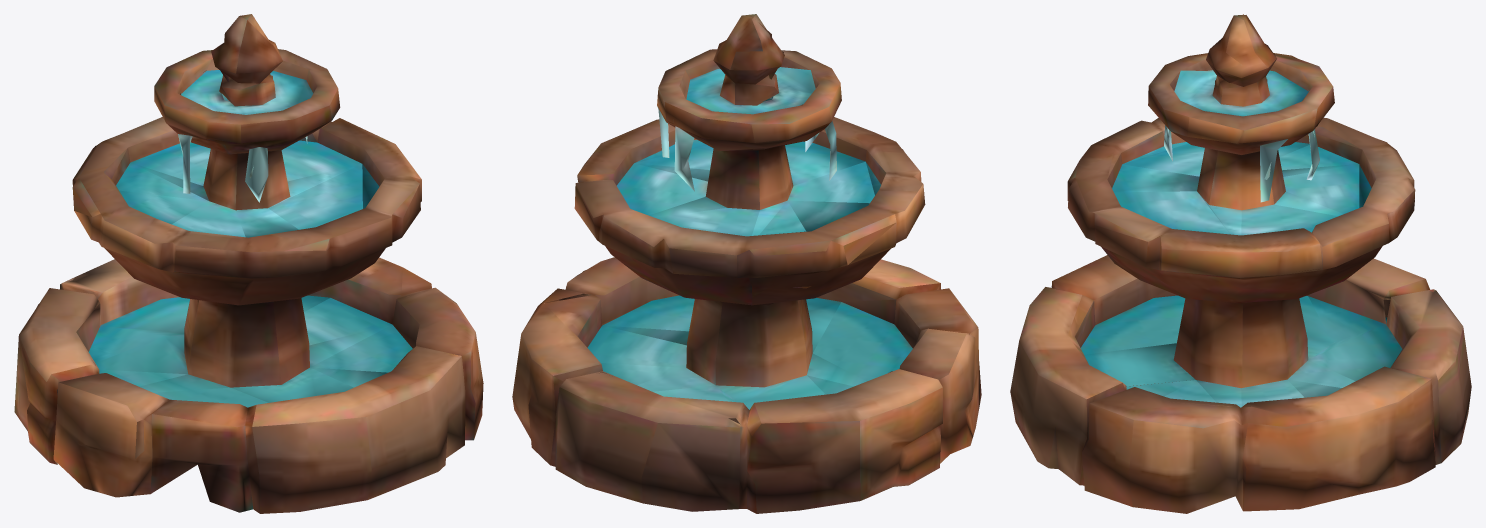
File: lg-village-fountain.glb
3 views of the same model, side by side, from view 1: azimuth 30°, elevation 25°; view 2: azimuth 150°, elevation 25°; view 3: azimuth 270°, elevation 25° (orthographic).
Visible parts, largest first — view 1: geometry_0; view 2: geometry_0; view 3: geometry_0.
Boxes of the visible parts, x1,y1,x2,y2 form: geometry_0: [14, 14, 483, 513]; geometry_0: [512, 14, 981, 513]; geometry_0: [1010, 14, 1471, 513].
Size of the model in its own units: 0.9801 by 0.966 by 1.
1 material, 1 textured.
